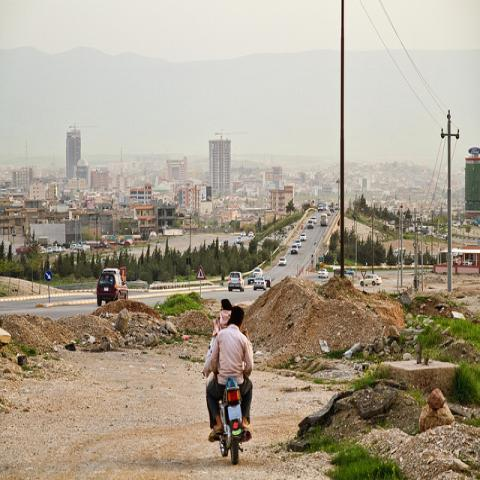car: (97, 273, 128, 306), (227, 272, 245, 292), (253, 276, 267, 291), (264, 275, 272, 288), (253, 267, 263, 277), (247, 274, 256, 284), (291, 244, 298, 255), (307, 220, 314, 230), (309, 216, 317, 224), (295, 239, 302, 248), (279, 256, 286, 265), (300, 232, 306, 240)
motorcycle: (218, 388, 253, 463)
truck: (320, 214, 329, 226)
